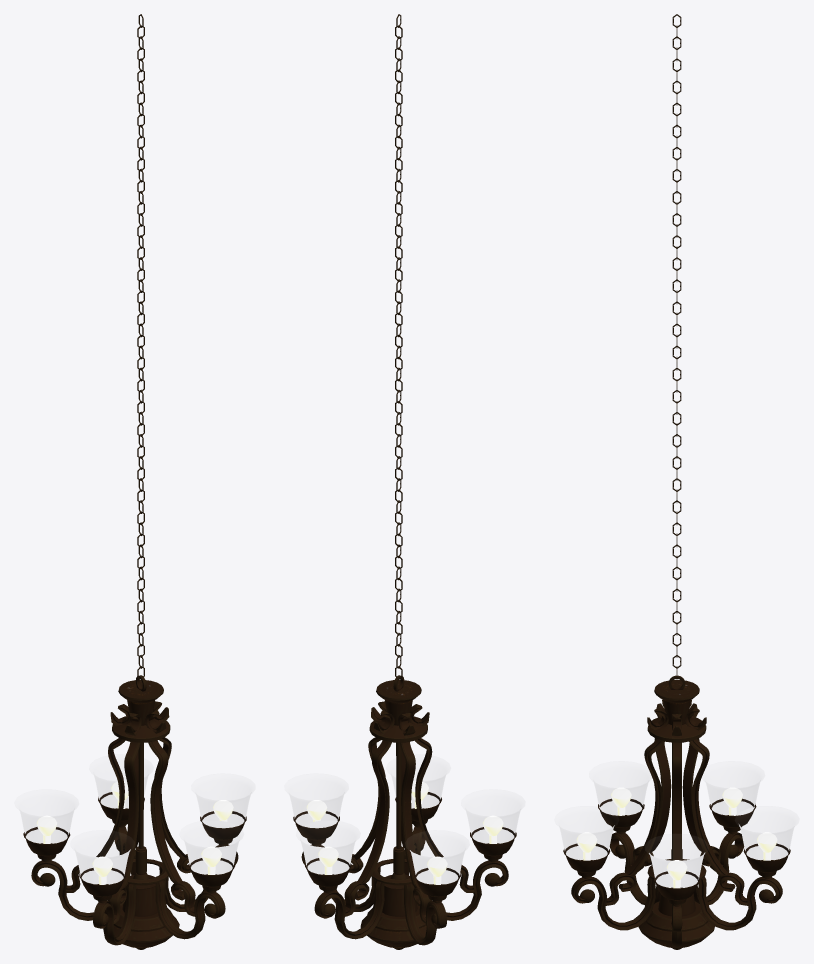
Rendered from chandelier_4.glb.
3 renders of one model, left to right at view 1: azimuth 30°, elevation 25°; view 2: azimuth 150°, elevation 25°; view 3: azimuth 270°, elevation 25°, orthographic.
Parts seen in each view (by area): view 1: BezierCurve_0; view 2: BezierCurve_0; view 3: BezierCurve_0.
Boxes of the visible parts, <box> form: BezierCurve_0: <box>20,14,250,949</box>; BezierCurve_0: <box>290,14,520,949</box>; BezierCurve_0: <box>560,14,793,949</box>.
Size of the model in its own units: 6.17 by 26.87 by 6.4.
1 material, 1 textured.
